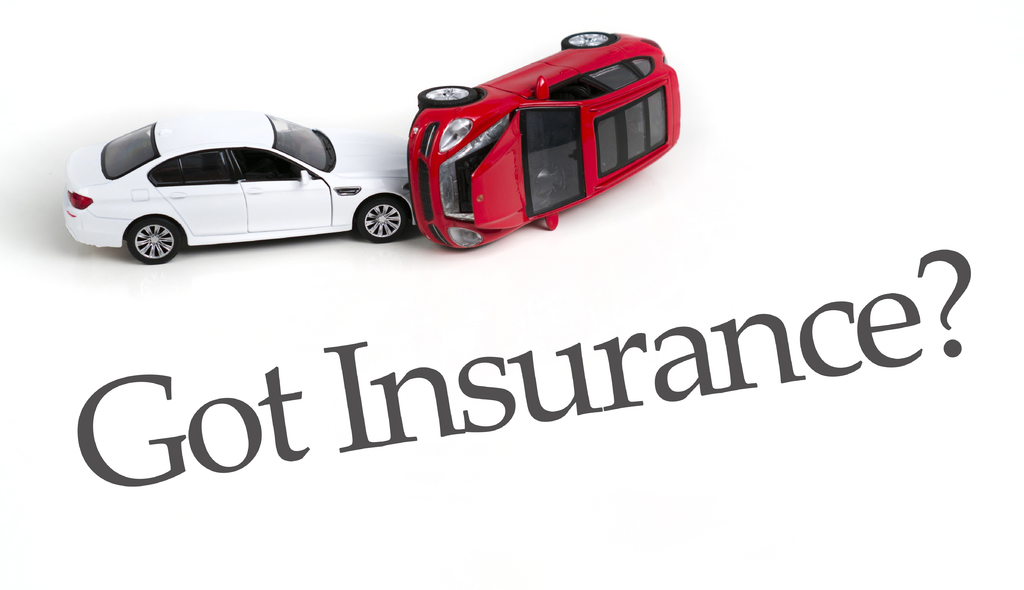cars: (400, 27, 682, 253), (66, 105, 420, 261)
